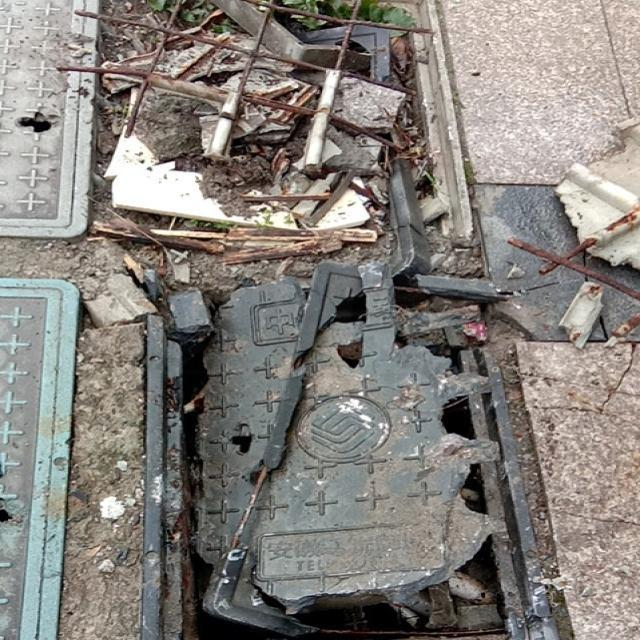Faulty: (114, 271, 566, 639), (76, 0, 475, 246)
